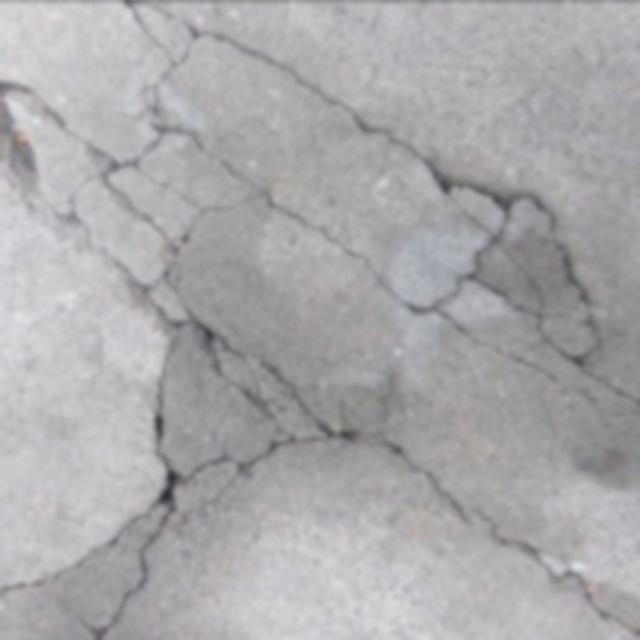SurfaceCrack: (174, 24, 640, 414), (236, 328, 640, 640), (0, 24, 222, 320), (0, 426, 206, 640)
